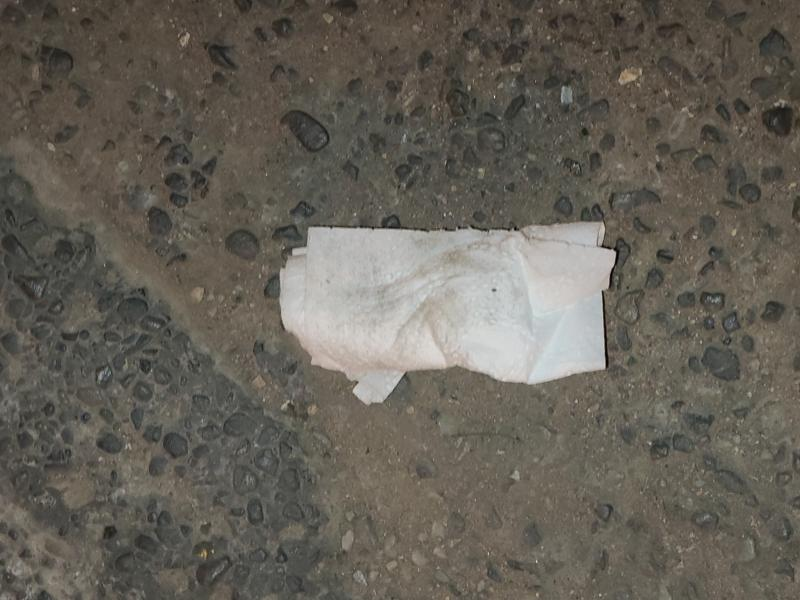papel: (278, 222, 619, 404)
